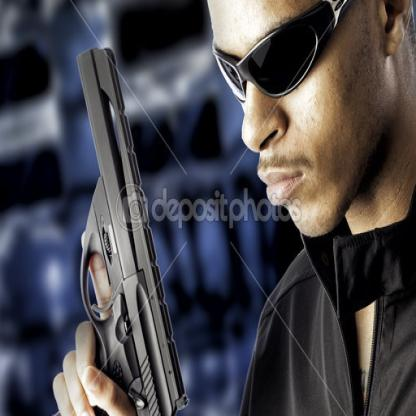gun: (44, 51, 207, 415)
